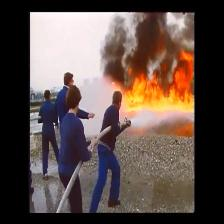fire: (127, 73, 193, 111)
smoke: (108, 20, 177, 64)
